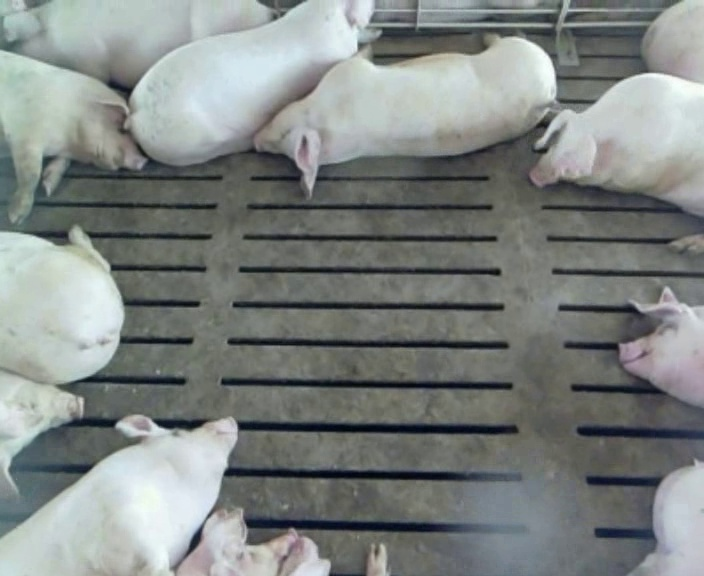pig: (254, 32, 554, 197), (128, 2, 382, 165), (0, 415, 236, 574), (0, 1, 272, 88), (0, 226, 123, 383), (619, 286, 703, 407), (630, 460, 703, 574), (176, 508, 297, 575), (641, 2, 703, 82)
